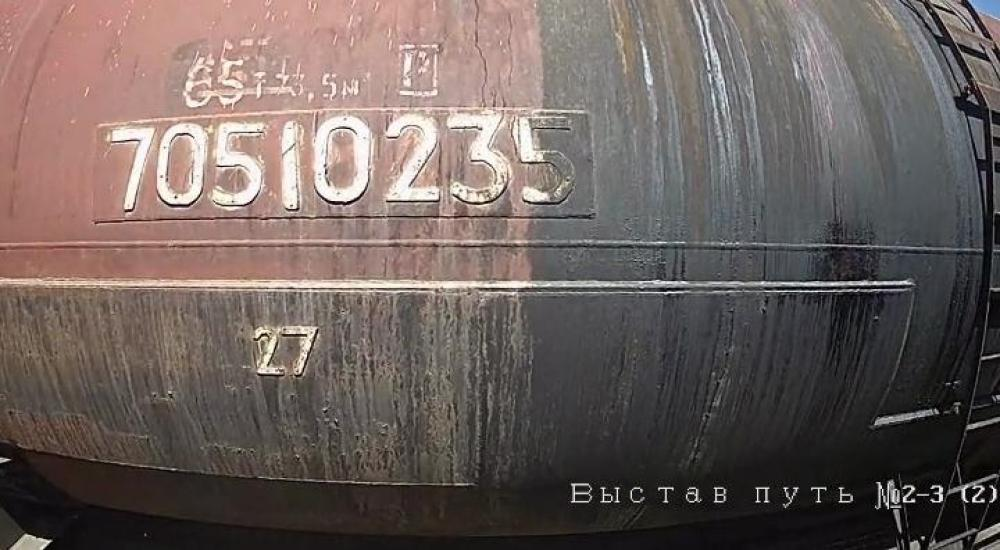Wagon-number: (104, 109, 578, 218)
